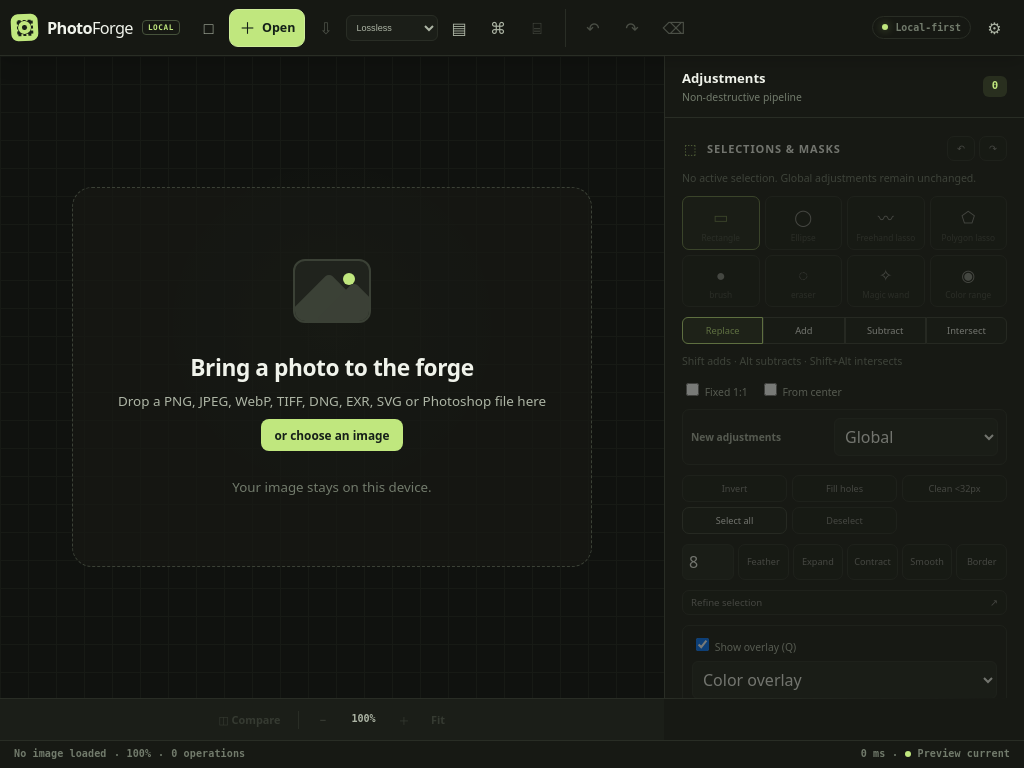
opening an image too large to open whole › leaves an open document untouched when the dialog is cancelled
Click the button "＋ Open": [267, 28] box x1=229 y1=8 x2=305 y2=46
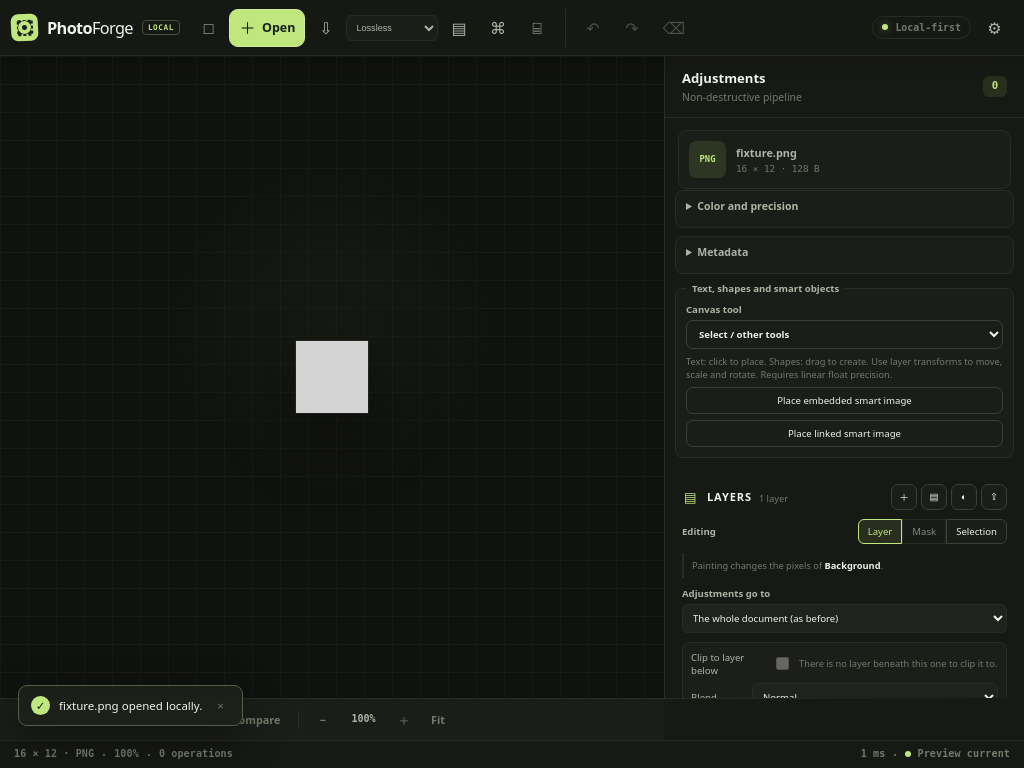
Click the button "＋ Open": [267, 28] box x1=229 y1=8 x2=305 y2=46
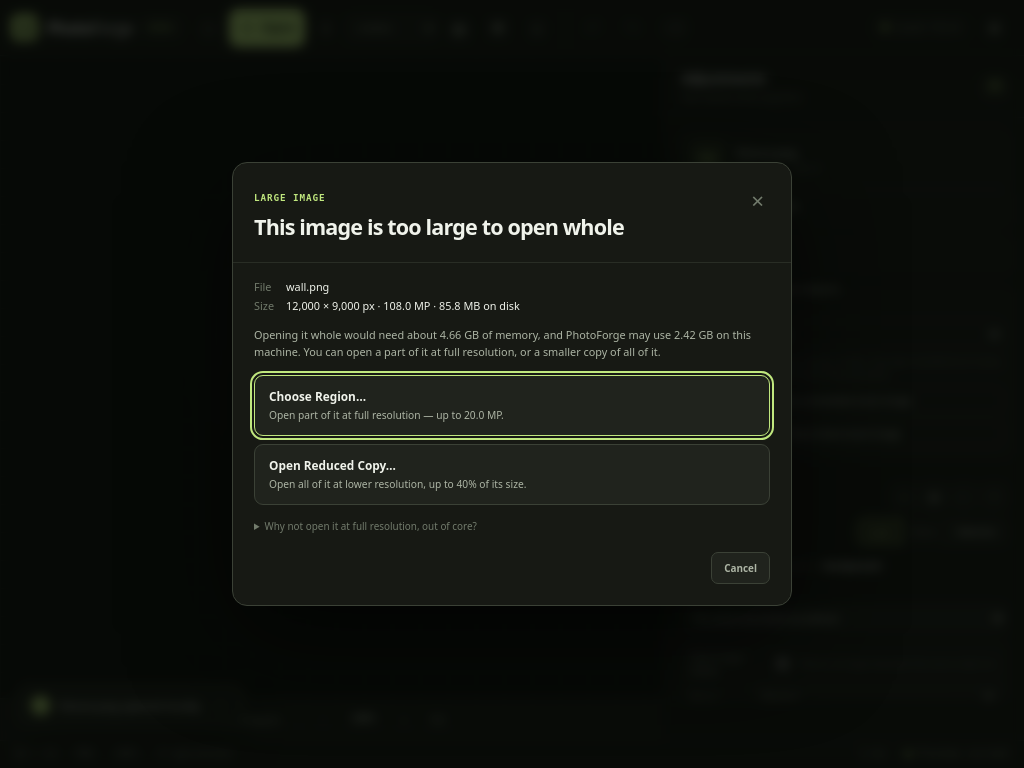
Expected: the dialog is shown, x1=232 y1=162 x2=792 y2=606
Click the button named "Cancel opening this image": [758, 201] box x1=745 y1=184 x2=770 y2=217
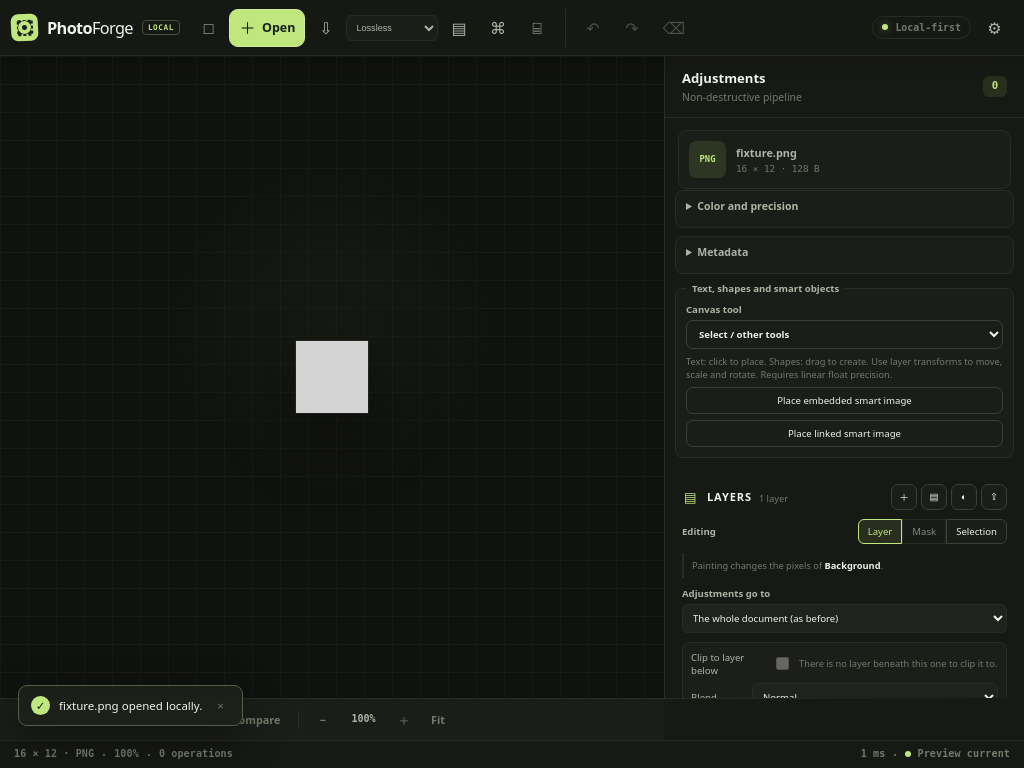
Expected: the dialog is gone
